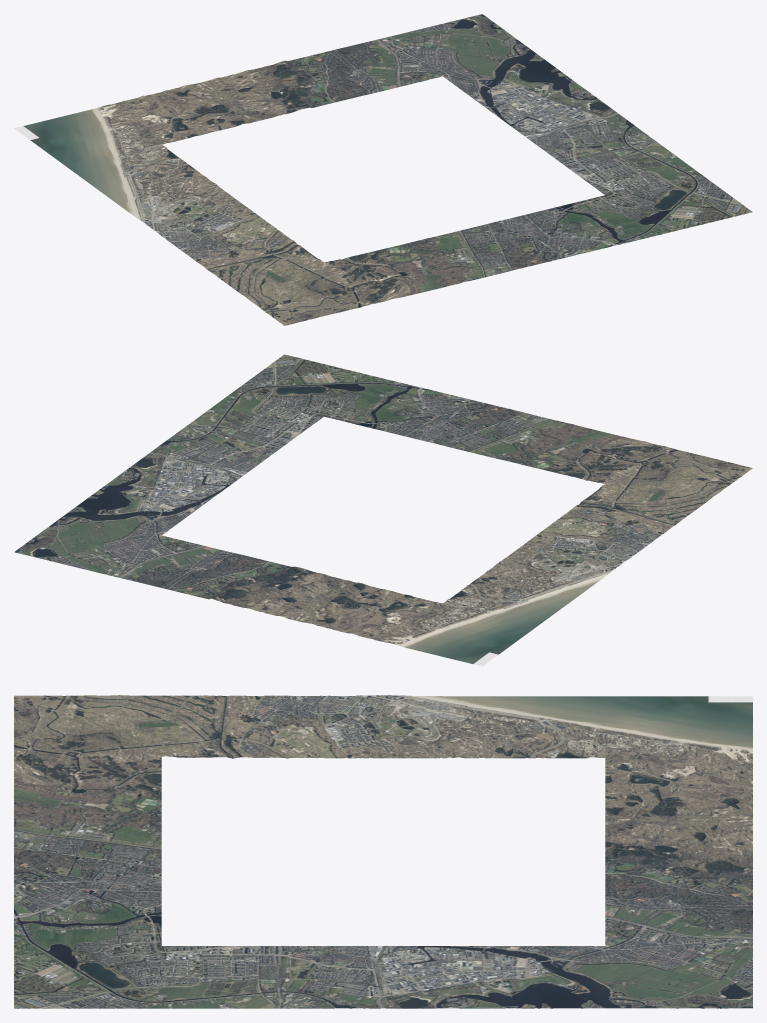
The model's file is context_outer_terrain.glb.
3 renders of one model, top to bottom at view 1: azimuth 30°, elevation 25°; view 2: azimuth 150°, elevation 25°; view 3: azimuth 270°, elevation 25°, orthographic. The views are drawn at different scales.
Parts seen in each view (by area): view 1: buiten_terrein; view 2: buiten_terrein; view 3: buiten_terrein.
Part boxes in pixels (x1,y1,x2,y2): buiten_terrein: (14,14,752,325); buiten_terrein: (14,354,752,666); buiten_terrein: (14,695,752,1008).
Size of the model in its own units: 10000 by 50.36 by 10000.
Materials: 1 (1 with a texture image).
